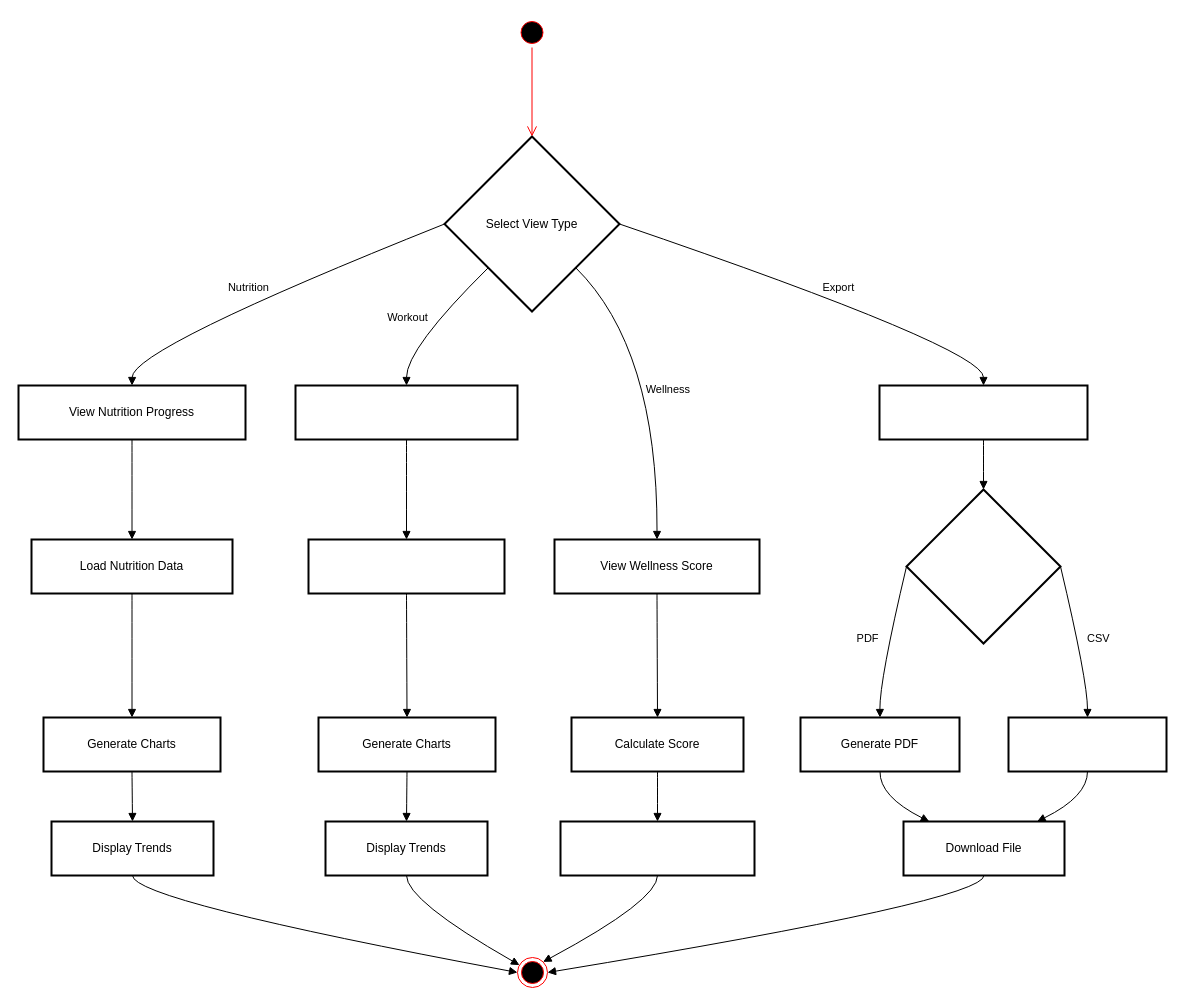
The diagram is 1184 pixels wide and 1005 high, and some of its shapes have lost their labels. The shapes that lost their labels are listed below. From the top down, each one's centre as x and y in pixels, then its label:
At point (406, 412): "View Workout Progress".
At point (983, 412): "Export Progress Data".
At point (406, 566): "Load Workout Data".
At point (983, 566): "Select Format".
At point (1087, 744): "Generate CSV".
At point (657, 848): "Display Breakdown".
